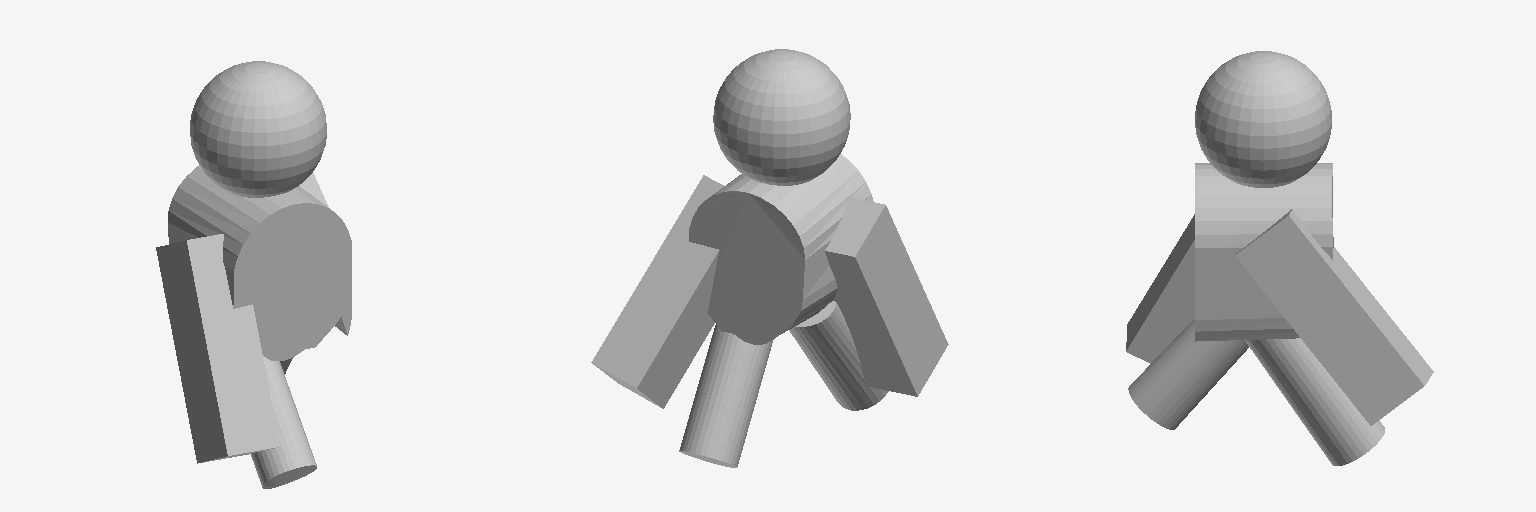
Rendered from Figurine64.obj.
The picture shows the model from 3 angles: view 1: azimuth 30°, elevation 25°; view 2: azimuth 150°, elevation 25°; view 3: azimuth 270°, elevation 25°; orthographic projection.
Visible parts, largest first — view 1: Cylinder; view 2: Cylinder; view 3: Cylinder.
Part boxes in pixels (x1,y1,x2,y2): Cylinder: (156, 61, 351, 488); Cylinder: (591, 49, 948, 467); Cylinder: (1126, 51, 1433, 465).
Bounding box in the file's own units: 3.49 × 6.27 × 4.47.